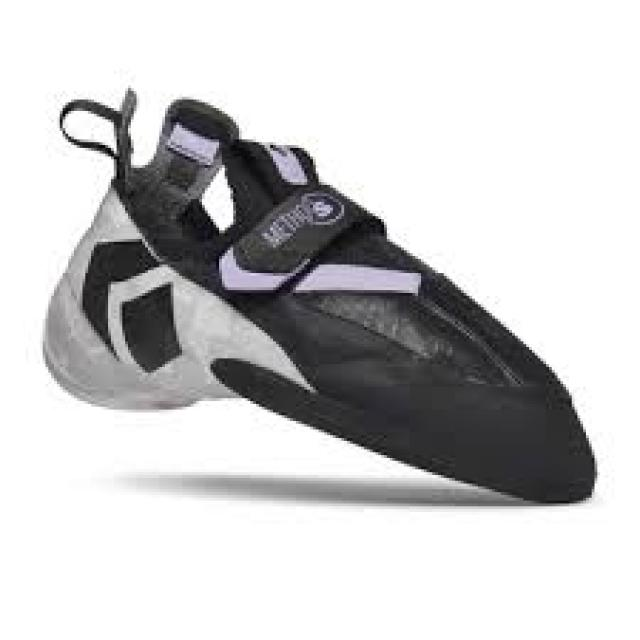climbing-shoes: (40, 88, 599, 508)
